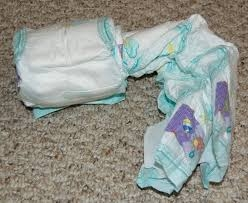paper: (122, 10, 240, 199), (8, 11, 134, 122)
